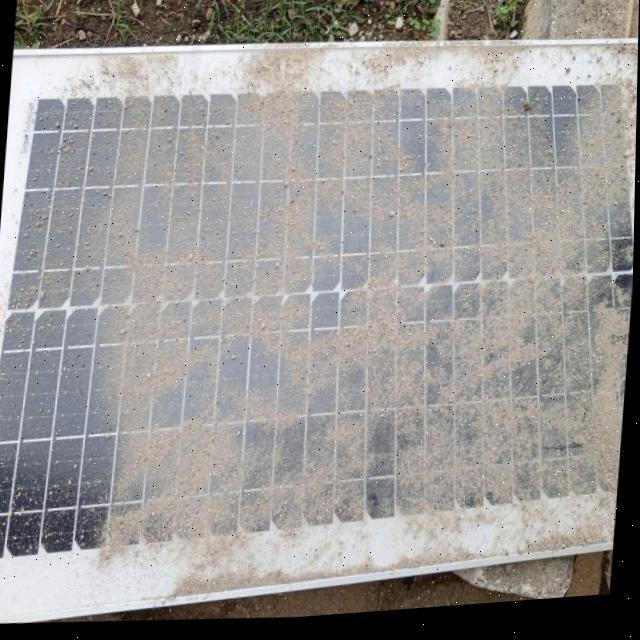Anomaly Solar Panel: (12, 40, 638, 573)
Surface Contaminant: (13, 71, 638, 542)
